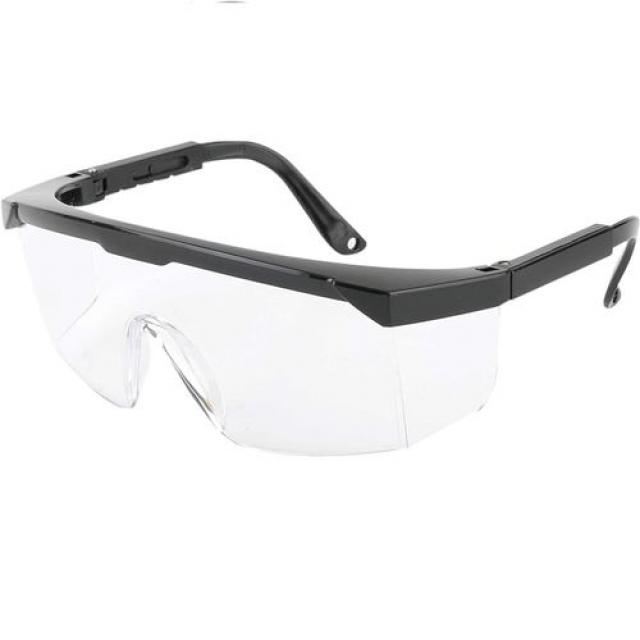Protective Glasses: (1, 53, 634, 462)
